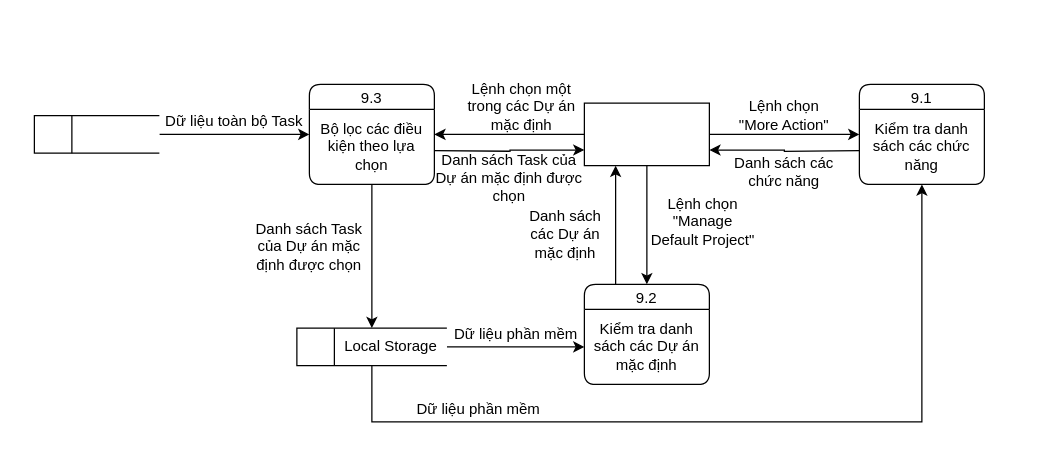
This 1043x454 diagram has some shape labels left out. The shapes that lost their labels are listed below. From the top down, each one's box as (x1, y1, x2, y2) in pixels, then its label:
(33, 114, 159, 153): Database
(583, 102, 709, 166): User
